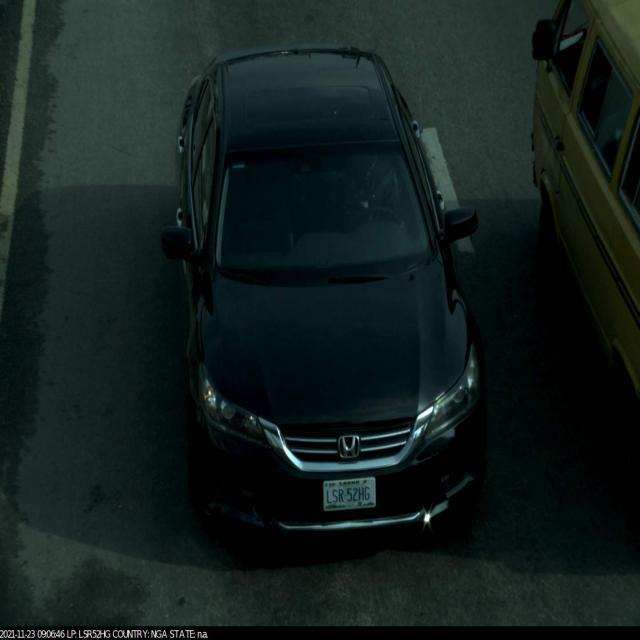windshield: (200, 120, 450, 293)
